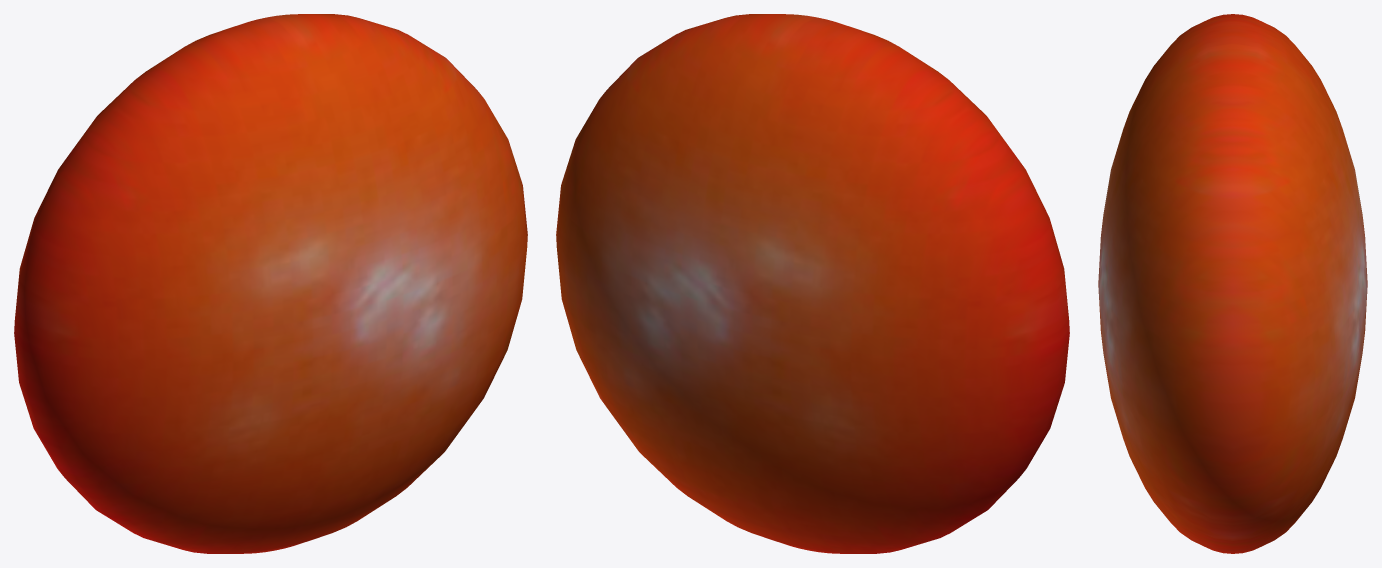
File: 20140311GOPHDRGPT02853.fbx
3 renders of one model, left to right at view 1: azimuth 30°, elevation 25°; view 2: azimuth 150°, elevation 25°; view 3: azimuth 270°, elevation 25°, orthographic. The views are drawn at different scales.
Visible parts, largest first — view 1: Sphere; view 2: Sphere; view 3: Sphere.
Boxes of the visible parts, box(x1,y1,x2,y2) form: Sphere: box(14, 14, 527, 553); Sphere: box(556, 14, 1069, 553); Sphere: box(1098, 14, 1367, 553).
Bounding box in the file's own units: 1.02 × 1.02 × 0.5091.
Materials: 1 (1 with a texture image).
